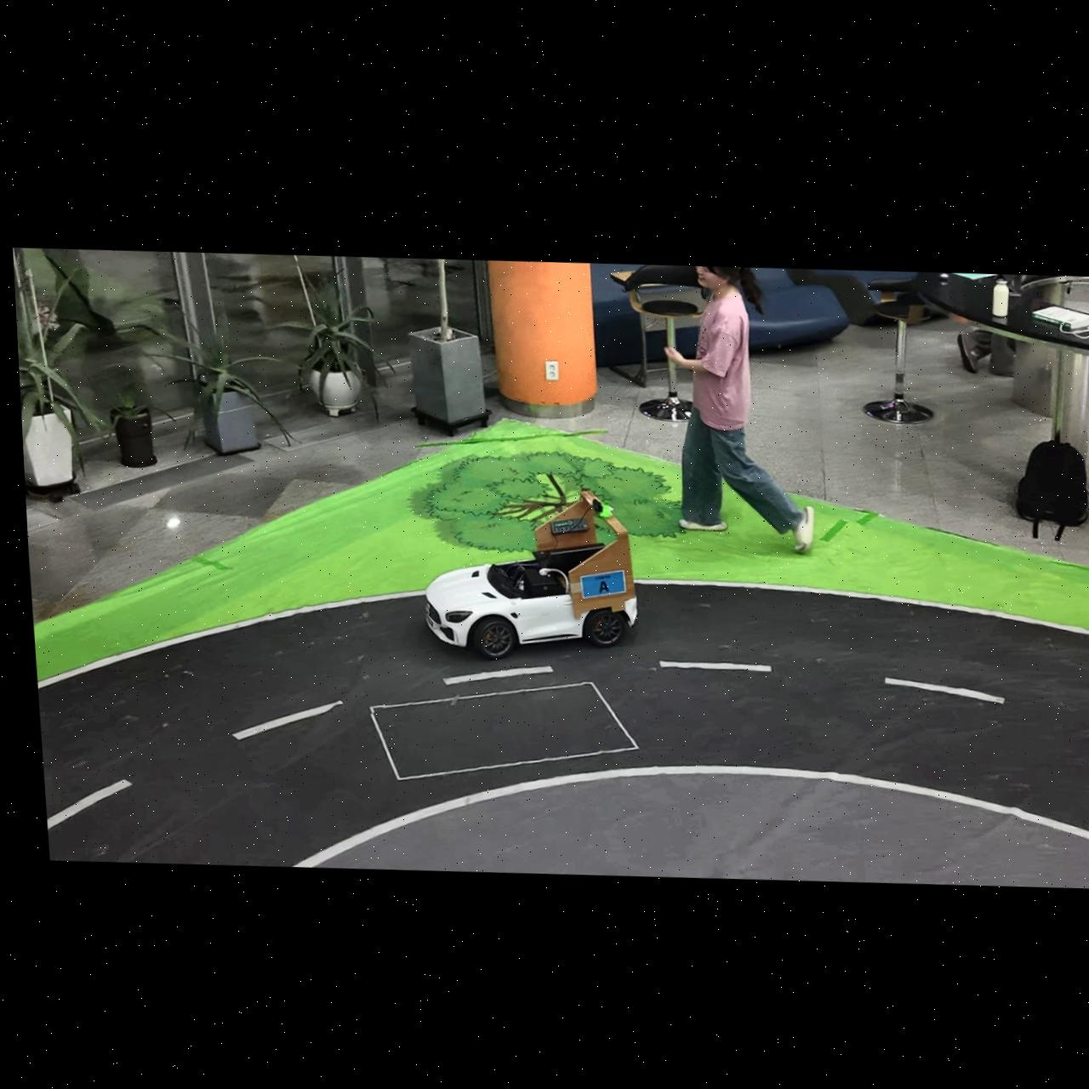broken_line: (231, 700, 343, 740), (47, 779, 133, 830), (885, 677, 1005, 704), (443, 665, 554, 685), (659, 660, 772, 672)
